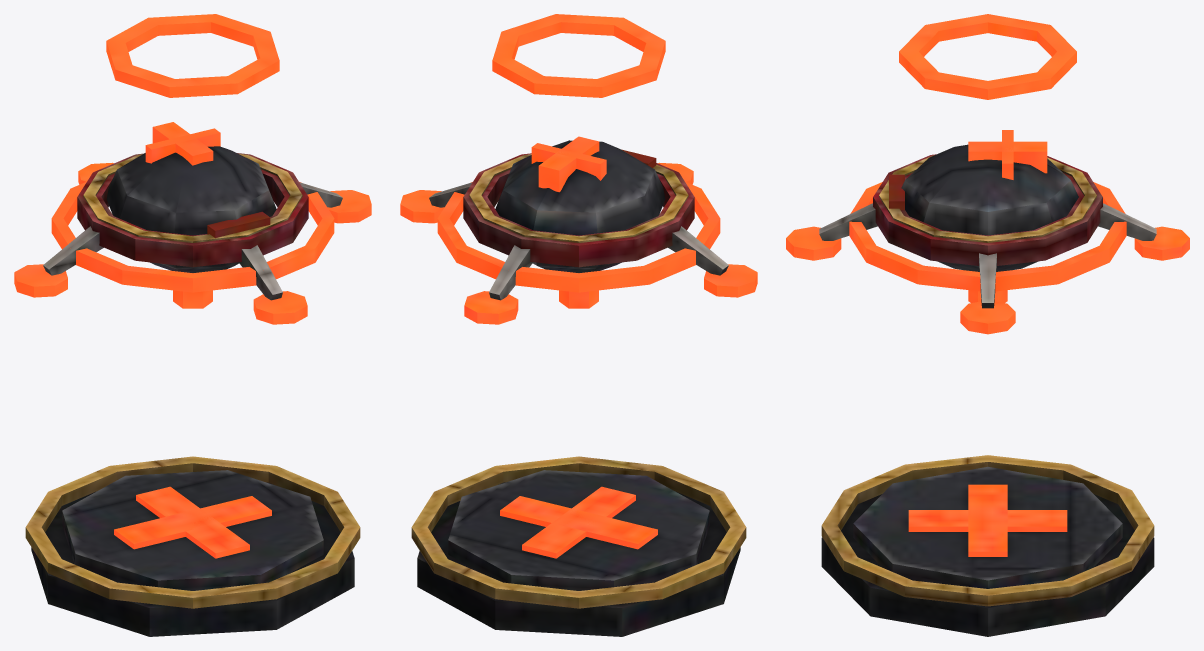
The model's file is u_medic4_e.glb.
3 renders of one model, left to right at view 1: azimuth 30°, elevation 25°; view 2: azimuth 150°, elevation 25°; view 3: azimuth 270°, elevation 25°, orthographic.
Visible parts, largest first — view 1: u_medic4_e; view 2: u_medic4_e; view 3: u_medic4_e.
Part boxes in pixels (x1,y1,x2,y2): u_medic4_e: (14, 14, 371, 636); u_medic4_e: (400, 14, 757, 636); u_medic4_e: (786, 14, 1189, 636).
Size of the model in its own units: 1.24 by 1.75 by 1.24.
1 material, 1 textured.
